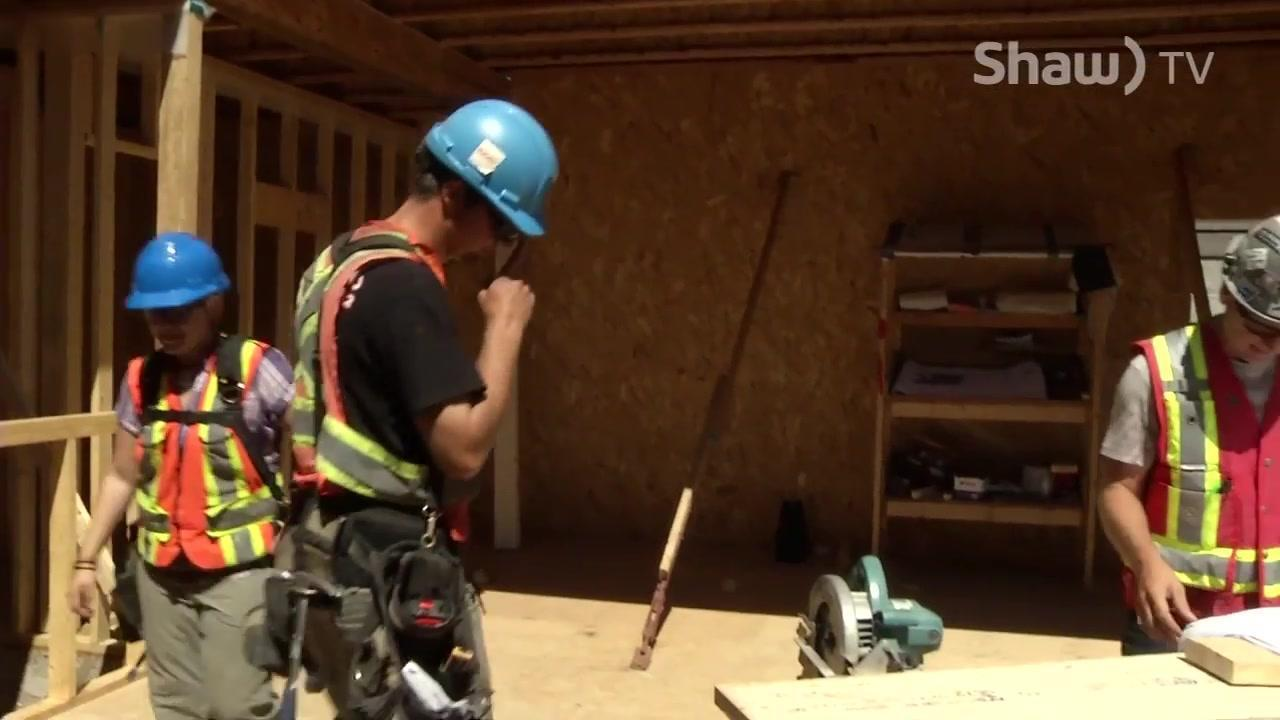vest: (1128, 317, 1278, 631), (294, 211, 447, 497), (120, 333, 297, 574)
